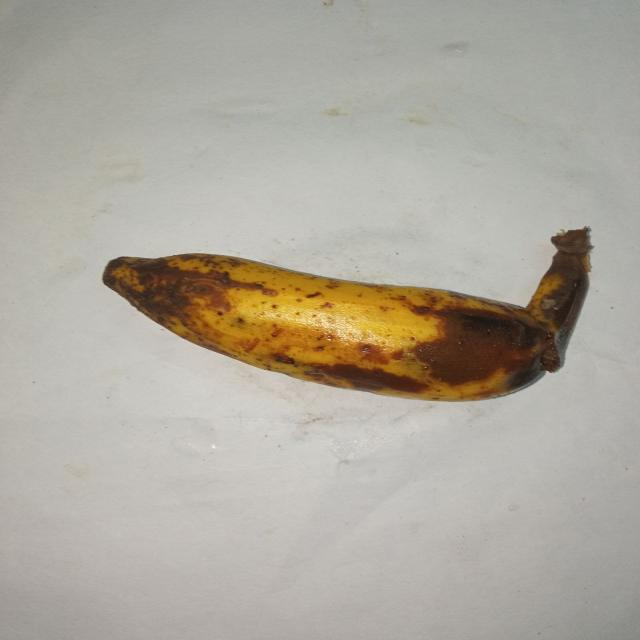rotten_banana: (96, 230, 595, 402)
